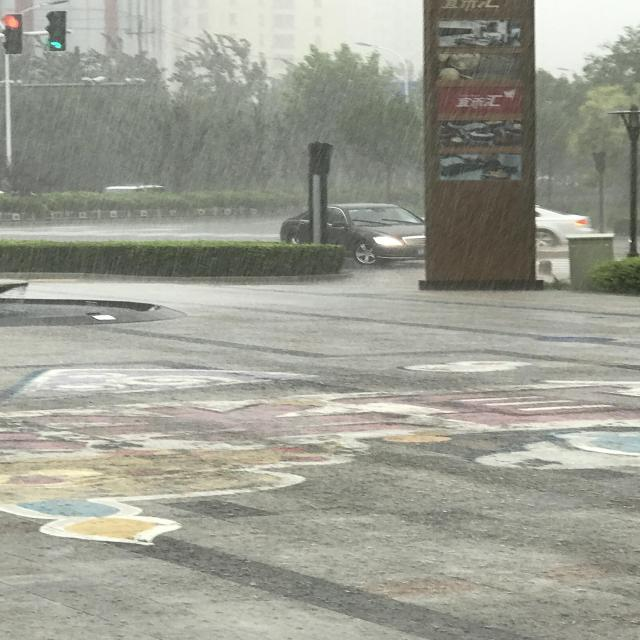car: (202, 188, 256, 368), (205, 30, 241, 106)
